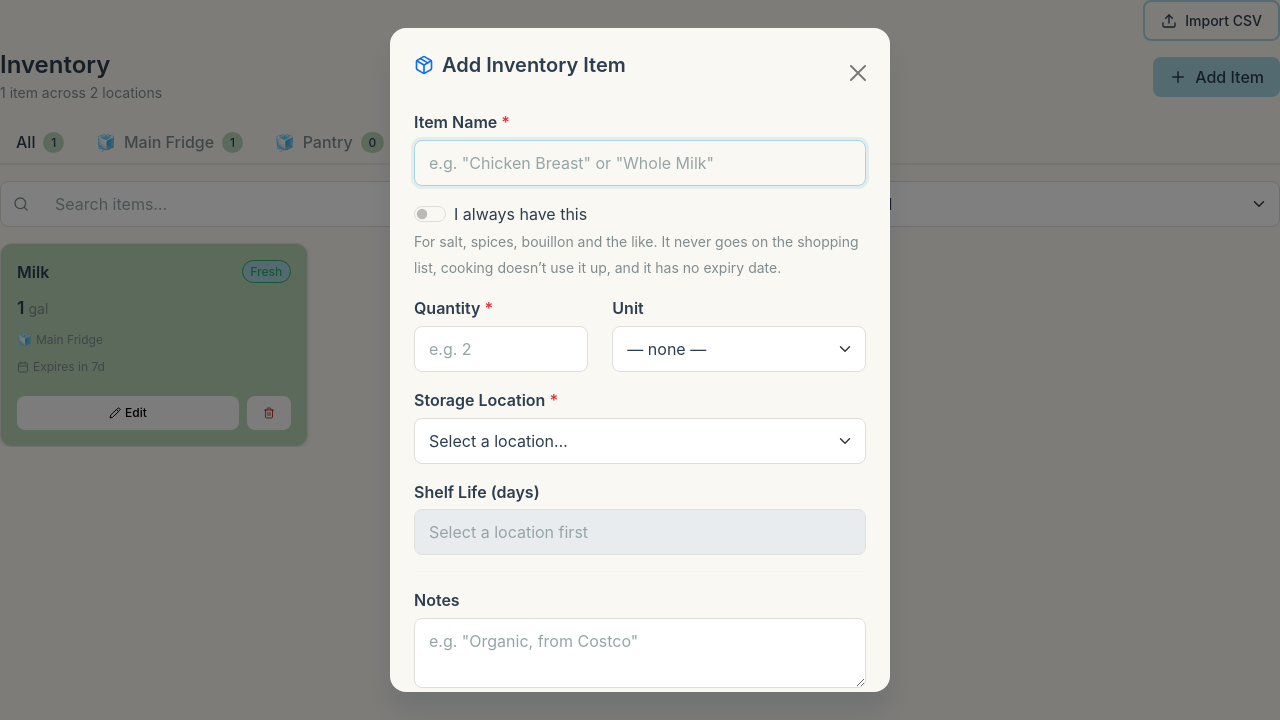
Scenario: Inventory page — the "Add Item" app shortcut › clears the parameter, so closing the form does not reopen it
The width and height of the screenshot is (1280, 720).
Check: the dialog is shown, box [390, 28, 890, 692]
Click the button named "close": [858, 73] box [842, 57, 874, 89]
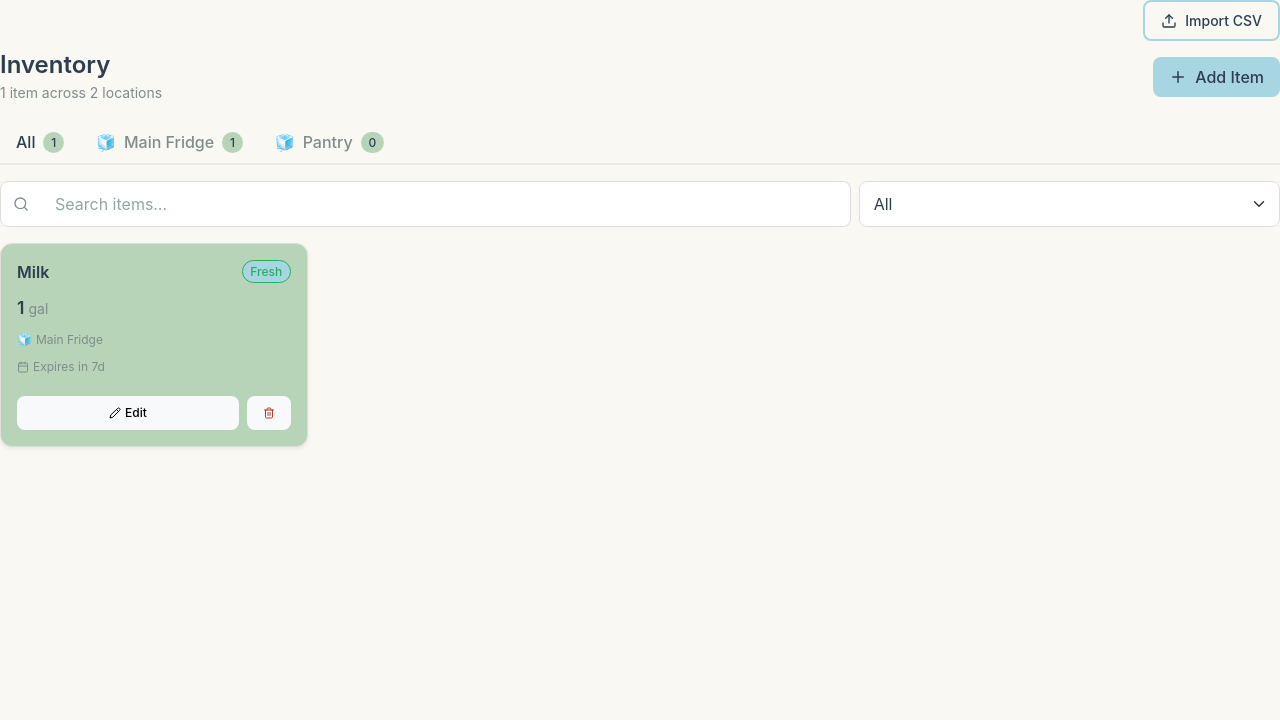
Check: the dialog is gone
